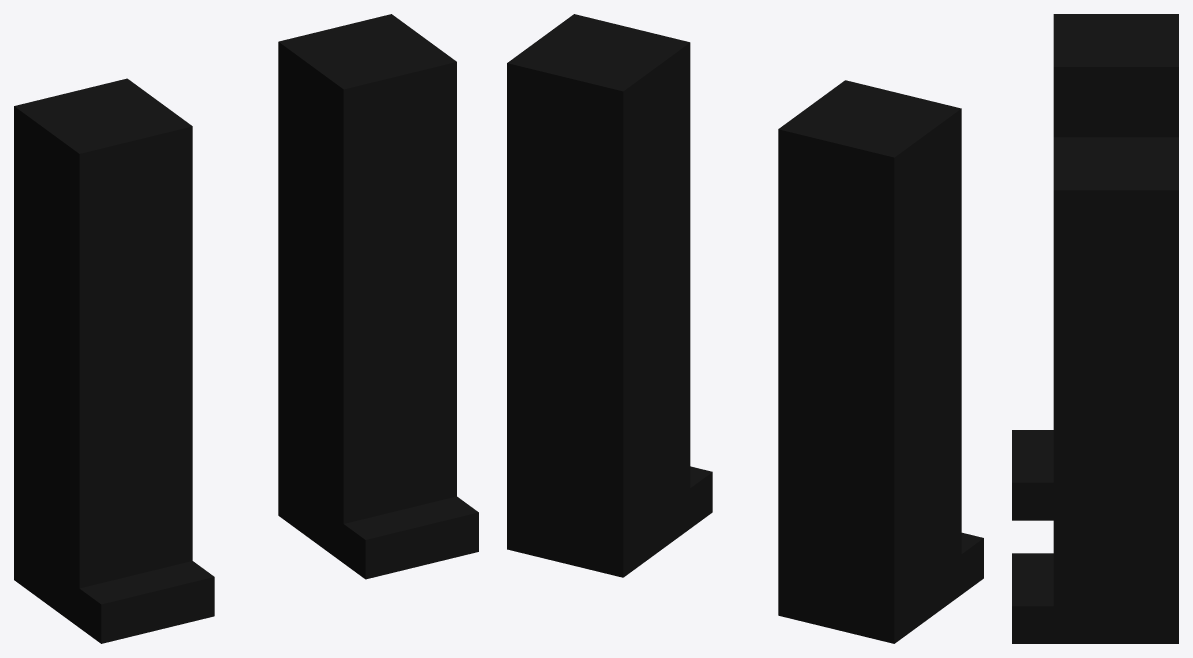
Rendered from character calf modeling.obj.
3 renders of one model, left to right at view 1: azimuth 30°, elevation 25°; view 2: azimuth 150°, elevation 25°; view 3: azimuth 270°, elevation 25°, orthographic. The views are drawn at different scales.
Bounding box in the file's own units: 1 × 1.2 × 0.4.
Materials: 1 (1 with a texture image).
